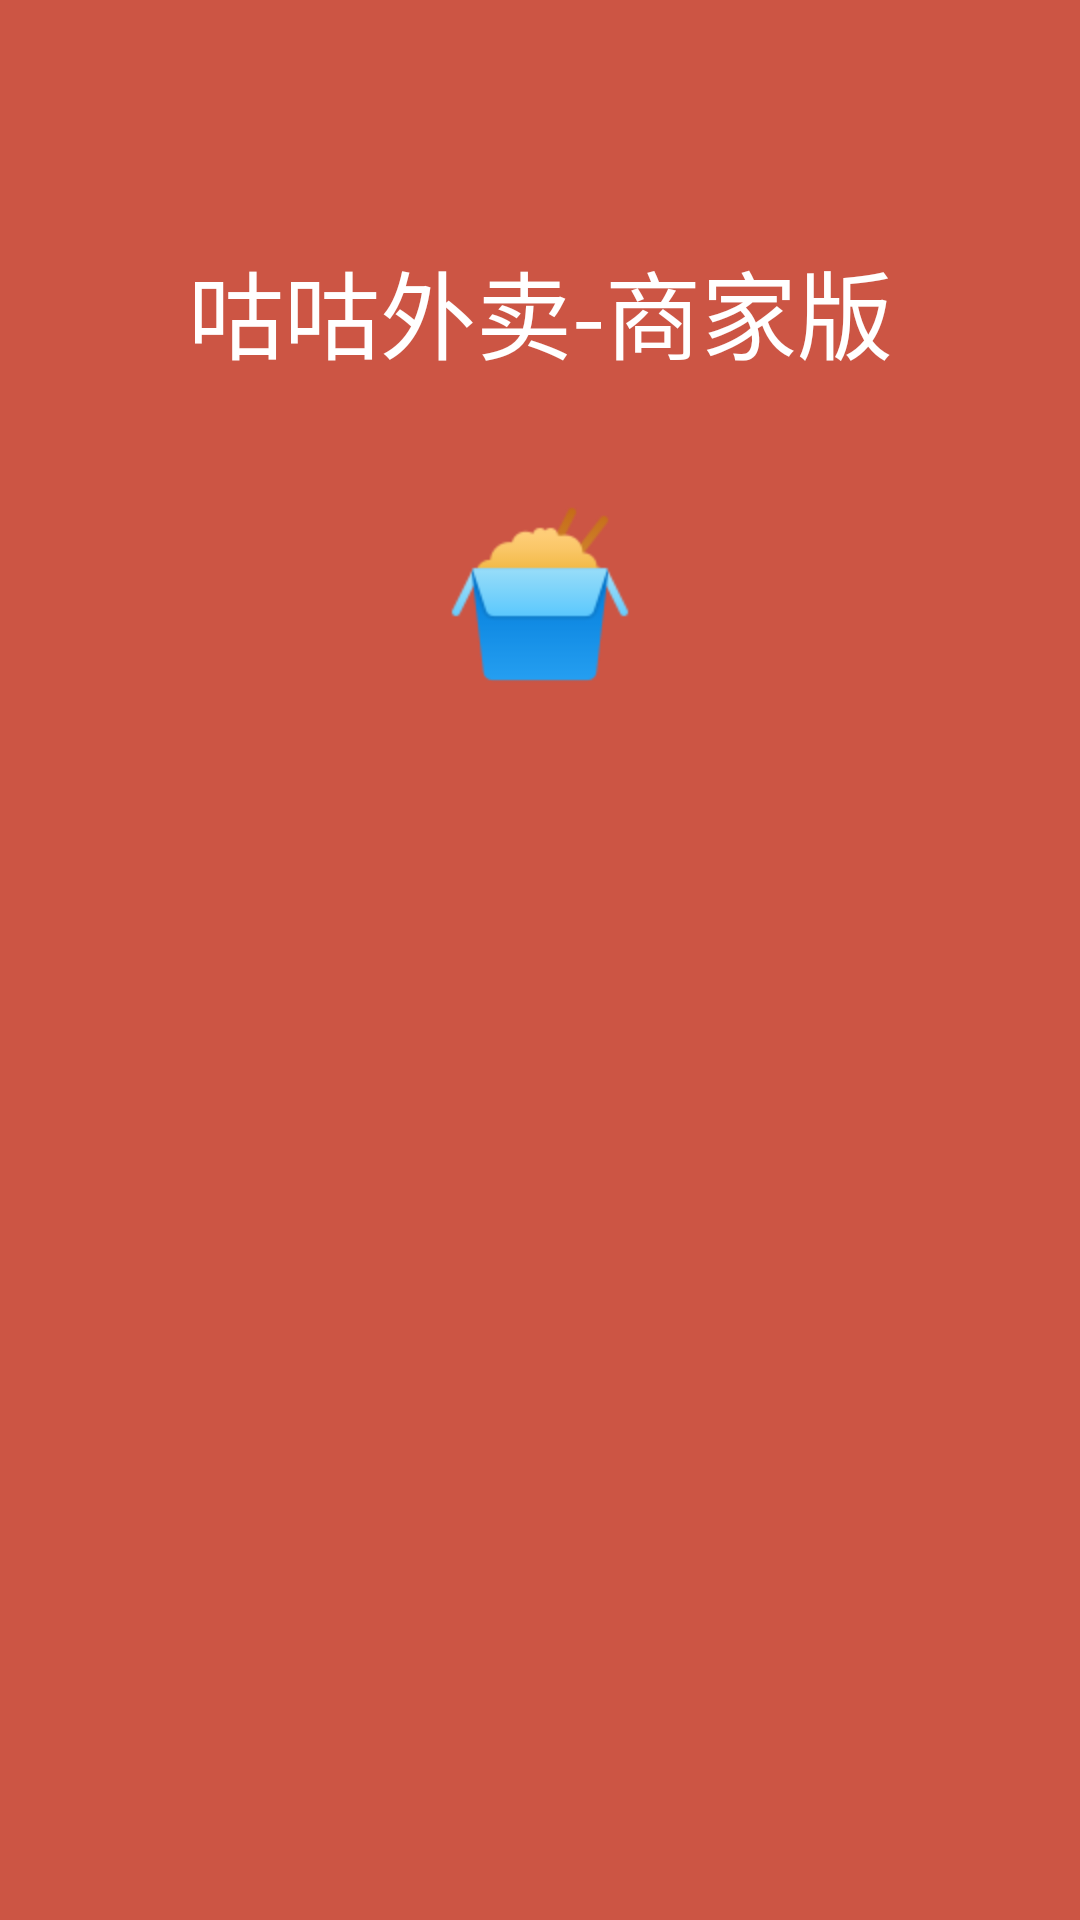

Named icons in this screenshot (1080x1920) and their centers, (x=x, y=y):
chinese fried rice: (x=540, y=594)
